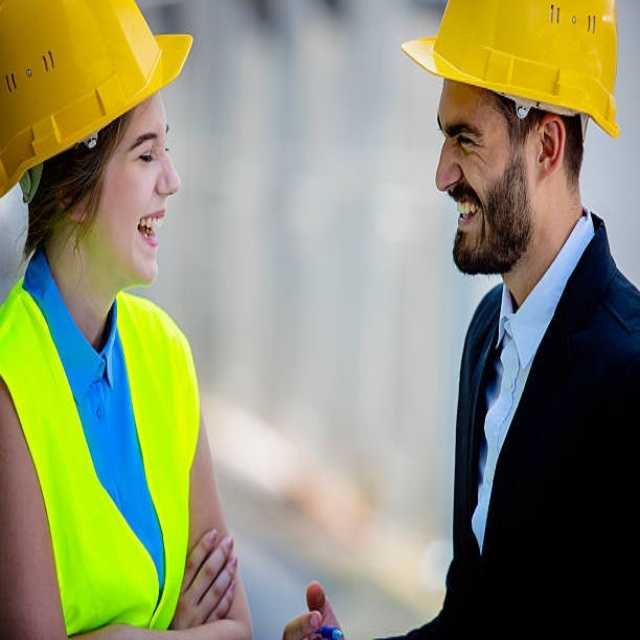Sin_gafas: (435, 102, 508, 158), (111, 118, 176, 169)
Sin_guantes: (170, 523, 238, 631)
Sin_mascara: (437, 182, 496, 270), (117, 191, 172, 284)
